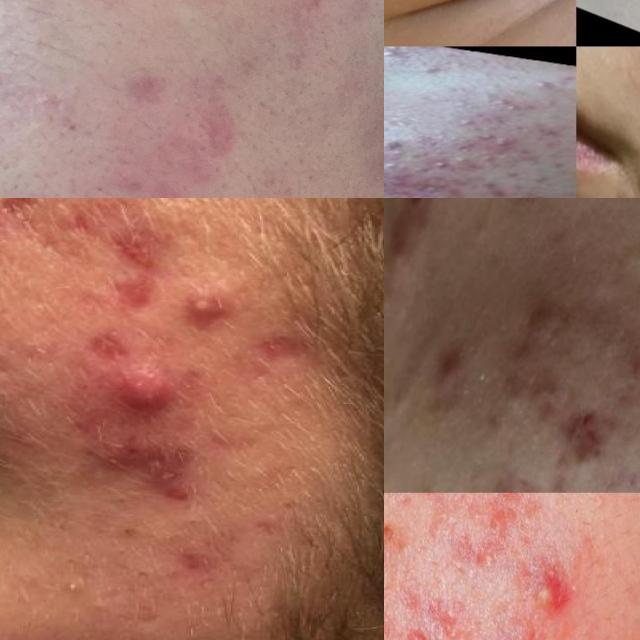acne_scars: (429, 493, 547, 600), (80, 221, 192, 326), (420, 578, 483, 640), (388, 607, 440, 640)
comedone: (475, 97, 529, 122), (56, 573, 94, 605), (0, 369, 31, 408), (106, 521, 154, 544), (0, 271, 24, 308), (125, 559, 151, 589), (416, 158, 463, 174), (523, 75, 558, 96), (440, 150, 478, 167), (0, 341, 23, 369), (384, 158, 415, 176), (472, 130, 504, 142), (384, 46, 408, 62), (631, 46, 640, 87), (447, 116, 472, 128)
cystic: (384, 198, 443, 312), (103, 358, 185, 429), (517, 278, 576, 356)
papule: (415, 331, 488, 417)
pustule: (522, 552, 580, 630), (177, 287, 234, 325)
